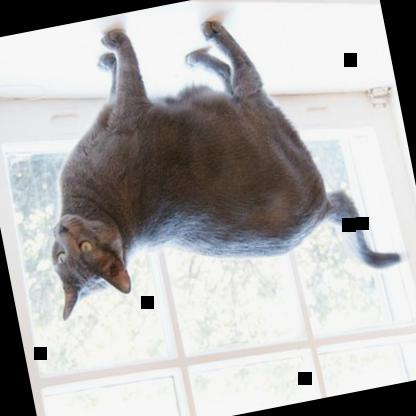cat: (9, 0, 403, 331)
